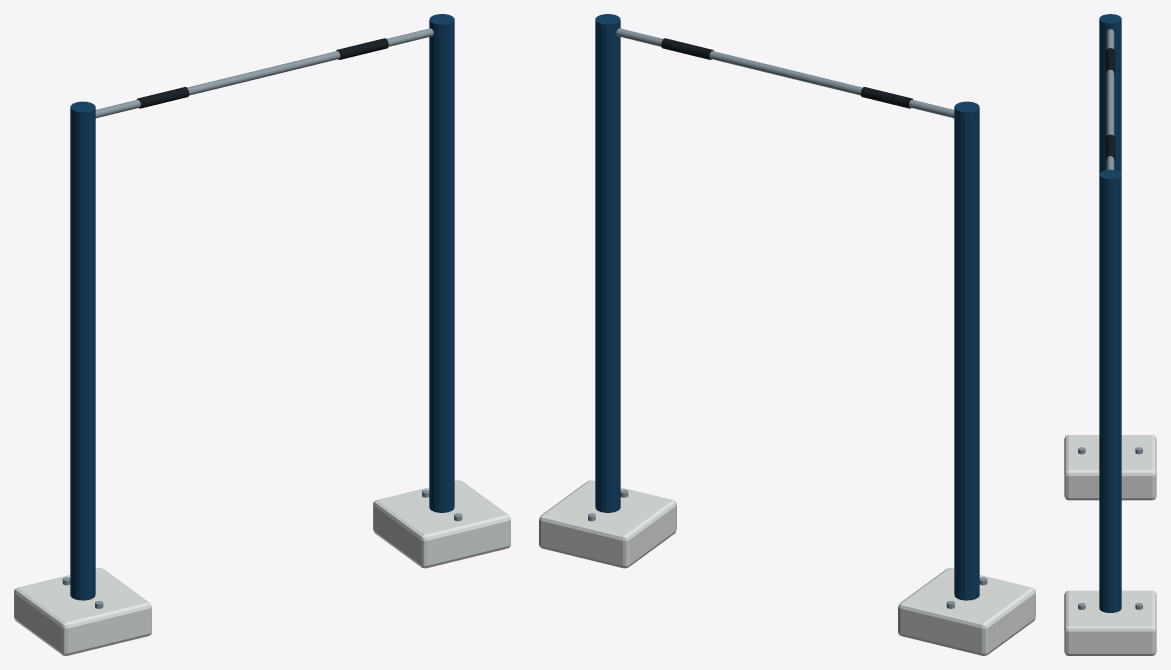
File: edited.glb
3 renders of one model, left to right at view 1: azimuth 30°, elevation 25°; view 2: azimuth 150°, elevation 25°; view 3: azimuth 270°, elevation 25°, orthographic. The views are drawn at different scales.
Visible parts, largest first — view 1: UPRIGHT, UPRIGHT.001, FOOTING.001, FOOTING, HIGH_PullUpBar; view 2: UPRIGHT, UPRIGHT.001, FOOTING.001, FOOTING, HIGH_PullUpBar; view 3: UPRIGHT.001, FOOTING.001, FOOTING, UPRIGHT, HIGH_PullUpBar, GRIP, GRIP.001.
Boxes of the visible parts, left/top/right/bottom form: UPRIGHT: left=70, top=101, right=95, bottom=600; UPRIGHT.001: left=429, top=14, right=454, bottom=512; FOOTING.001: left=373, top=480, right=510, bottom=568; FOOTING: left=14, top=568, right=151, bottom=655; HIGH_PullUpBar: left=95, top=28, right=433, bottom=118; UPRIGHT: left=954, top=101, right=979, bottom=600; UPRIGHT.001: left=595, top=14, right=620, bottom=512; FOOTING.001: left=539, top=480, right=676, bottom=568; FOOTING: left=898, top=568, right=1035, bottom=655; HIGH_PullUpBar: left=616, top=28, right=954, bottom=118; UPRIGHT.001: left=1099, top=169, right=1121, bottom=612; FOOTING.001: left=1064, top=590, right=1156, bottom=655; FOOTING: left=1064, top=435, right=1156, bottom=500; UPRIGHT: left=1099, top=14, right=1121, bottom=173; HIGH_PullUpBar: left=1106, top=29, right=1114, bottom=169; GRIP: left=1105, top=48, right=1115, bottom=74; GRIP.001: left=1105, top=134, right=1115, bottom=160.
Size of the model in its own units: 2.25 by 2.5 by 0.45.
